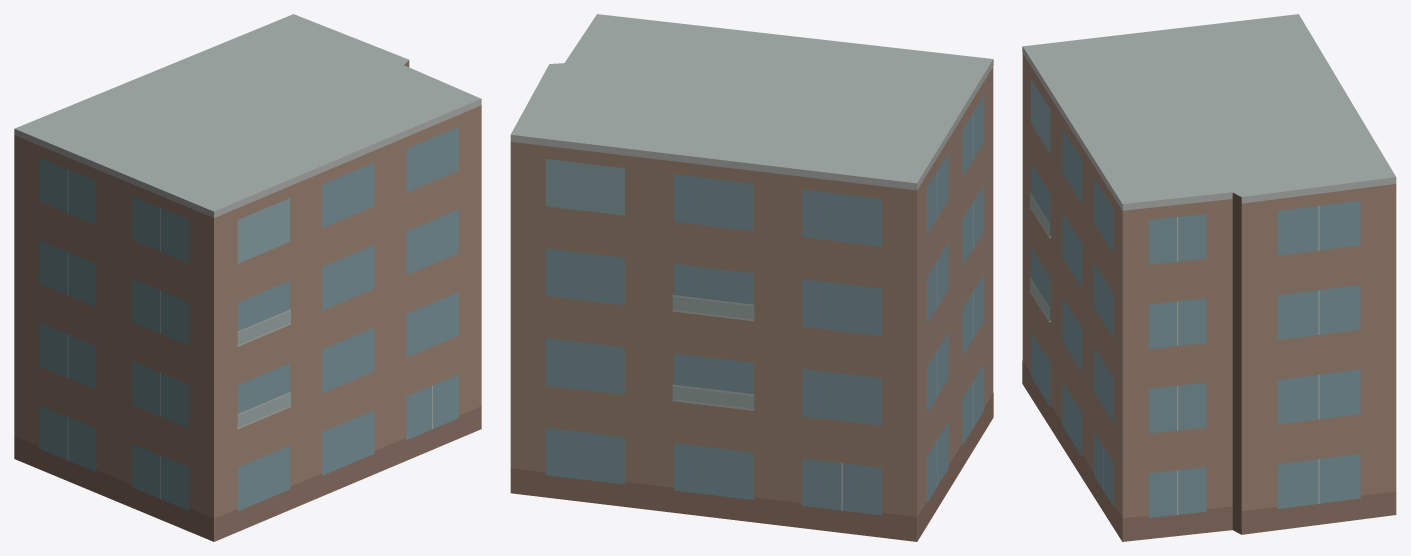
File: survey-upis-32977856.glb
3 renders of one model, left to right at view 1: azimuth 30°, elevation 25°; view 2: azimuth 150°, elevation 25°; view 3: azimuth 270°, elevation 25°, orthographic. The views are drawn at different scales.
Parts seen in each view (by area): view 1: survey-upis-32977856.tmp; view 2: survey-upis-32977856.tmp; view 3: survey-upis-32977856.tmp.
Boxes of the visible parts, left/top/right/bottom form: survey-upis-32977856.tmp: left=14, top=14, right=481, bottom=541; survey-upis-32977856.tmp: left=510, top=14, right=993, bottom=541; survey-upis-32977856.tmp: left=1022, top=14, right=1396, bottom=541.
Bounding box in the file's own units: 15.11 × 12.5 × 12.55.
